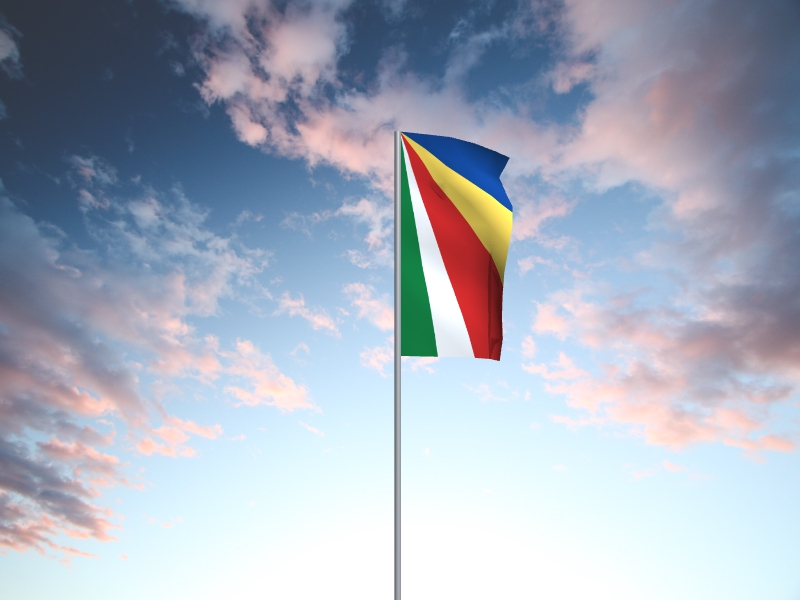sc: (402, 132, 514, 362)
